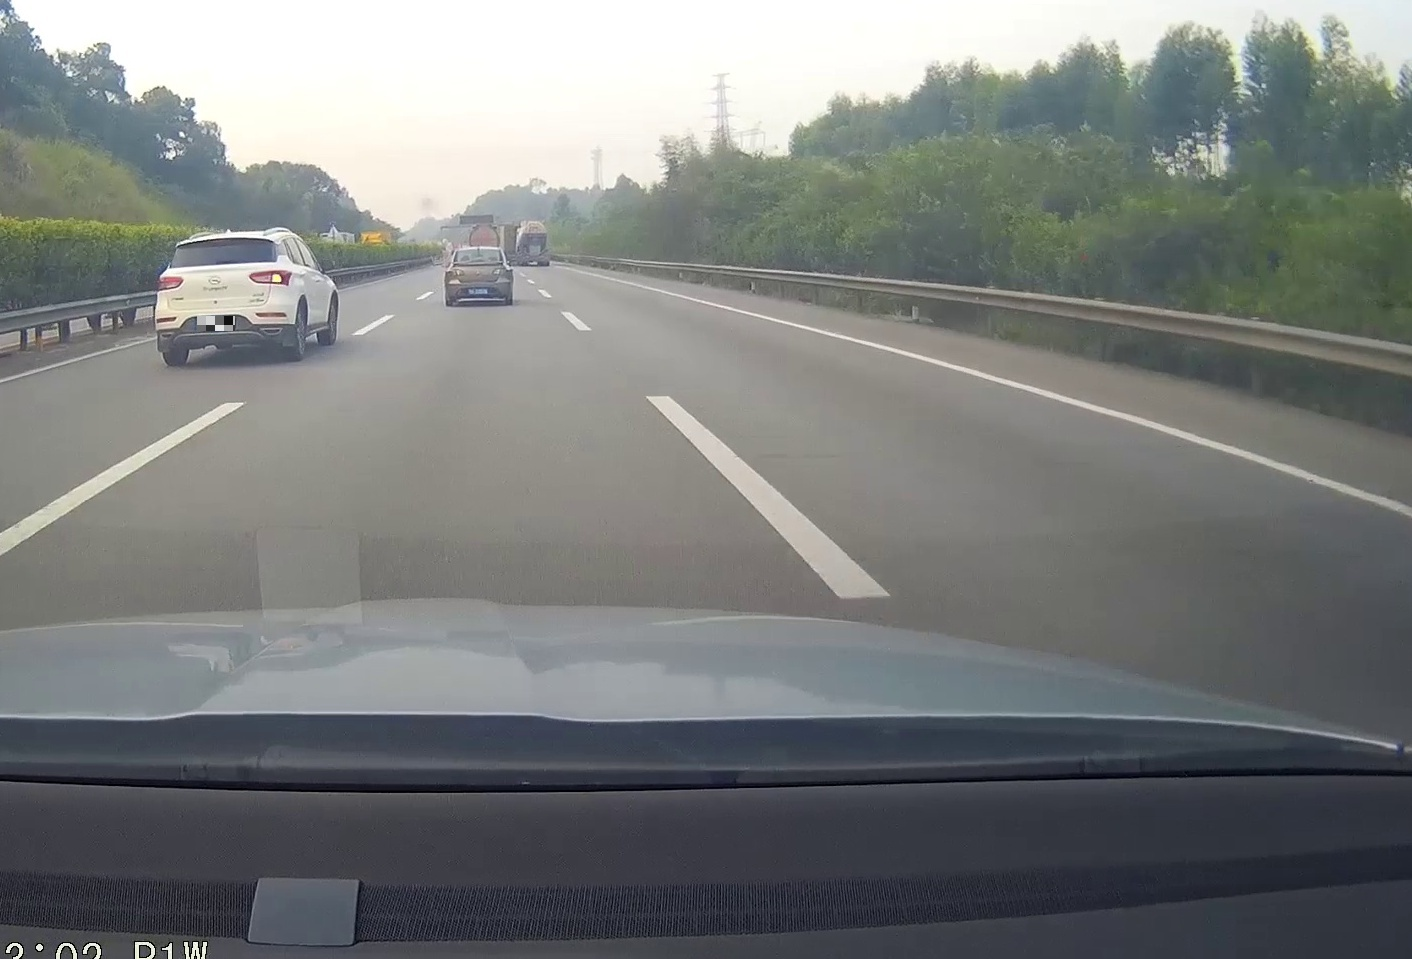L_light: (157, 276, 184, 292), (452, 268, 465, 276)
R_light: (248, 270, 293, 286), (492, 267, 507, 276)
T_light: (209, 238, 230, 242), (475, 249, 484, 252)
day-no: (444, 246, 514, 307)
day-right: (155, 231, 295, 366)
plate_1: (197, 316, 236, 331)
